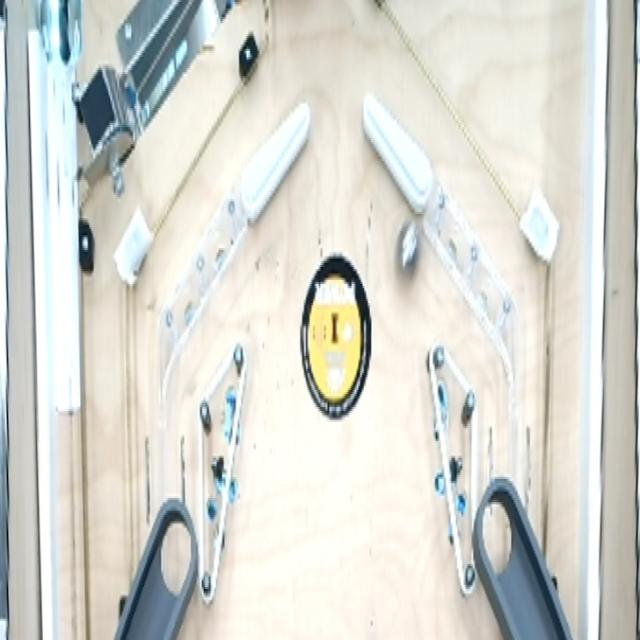ball: (393, 215, 424, 289)
flipper-left: (358, 86, 440, 221)
flipper-right: (237, 90, 314, 231)
